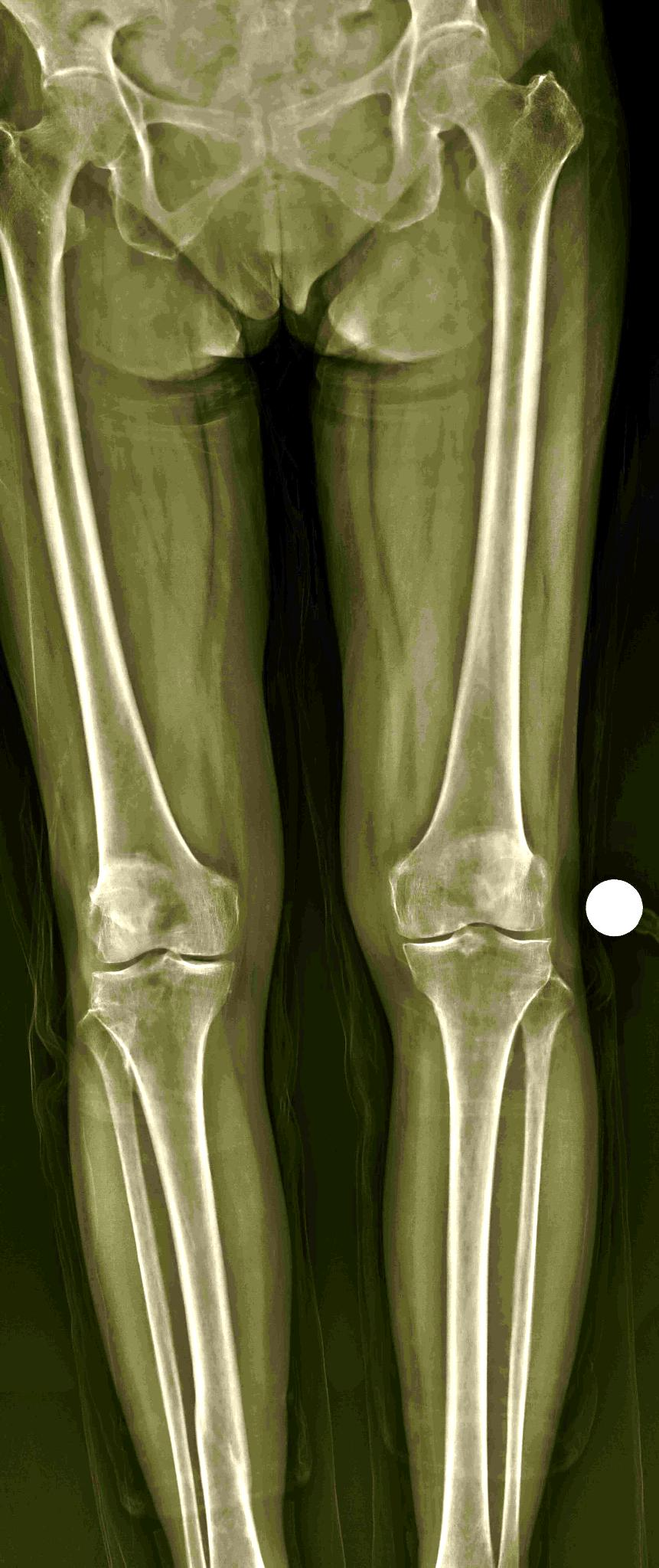Leg Fibula: (79, 1009, 207, 1568), (499, 973, 573, 1568)
Leg Tibia: (92, 953, 261, 1568), (409, 930, 550, 1568)
femur: (0, 68, 238, 963), (391, 24, 583, 964)
